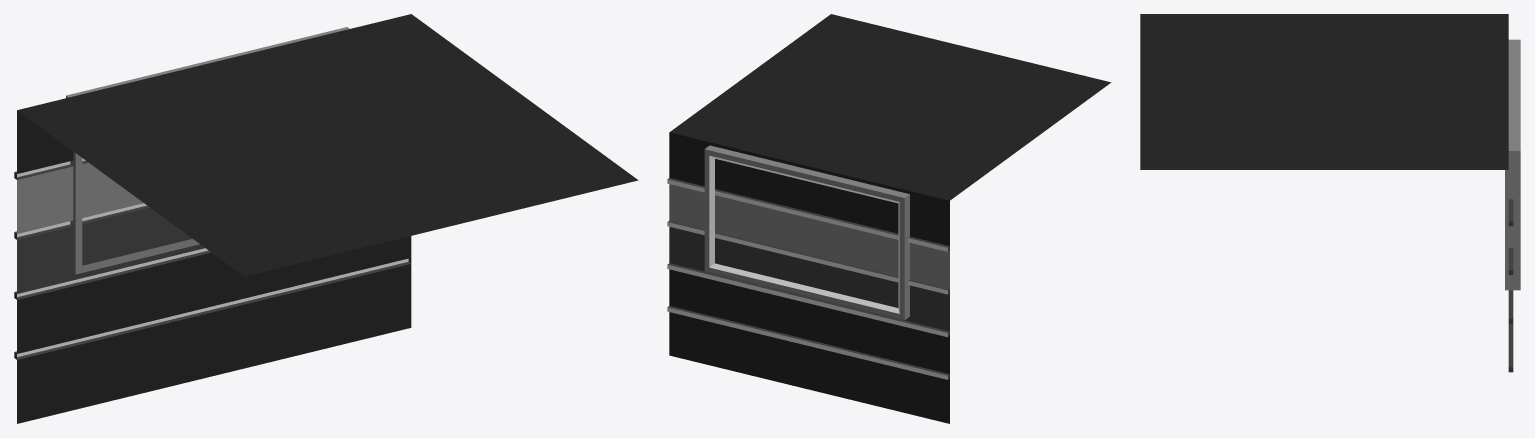
The model's file is MallSide3.fbx.
The picture shows the model from 3 angles, left to right: view 1: azimuth 30°, elevation 25°; view 2: azimuth 150°, elevation 25°; view 3: azimuth 270°, elevation 25°; orthographic projection. The views are drawn at different scales.
Parts seen in each view (by area): view 1: MallCorner1; view 2: MallCorner1; view 3: MallCorner1.
Part boxes in pixels (left/top/right/bottom): MallCorner1: left=14, top=14, right=638, bottom=423; MallCorner1: left=667, top=14, right=1111, bottom=423; MallCorner1: left=1140, top=14, right=1520, bottom=372.
Bounding box in the file's own units: 200 × 152 × 206.
